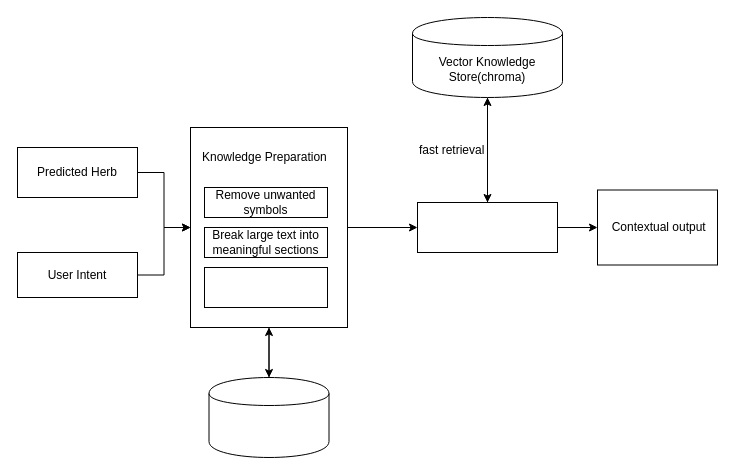
The diagram is 735 pixels wide and 475 high, and some of its shapes have lost their labels. Here are the shapes that lost their labels. From the top down, the centre of each, then its label:
At point (487, 227): "Semantic Representation".
At point (266, 287): "clean and improve retrive quality".
At point (268, 417): "Herbal Knowledge Repository".
